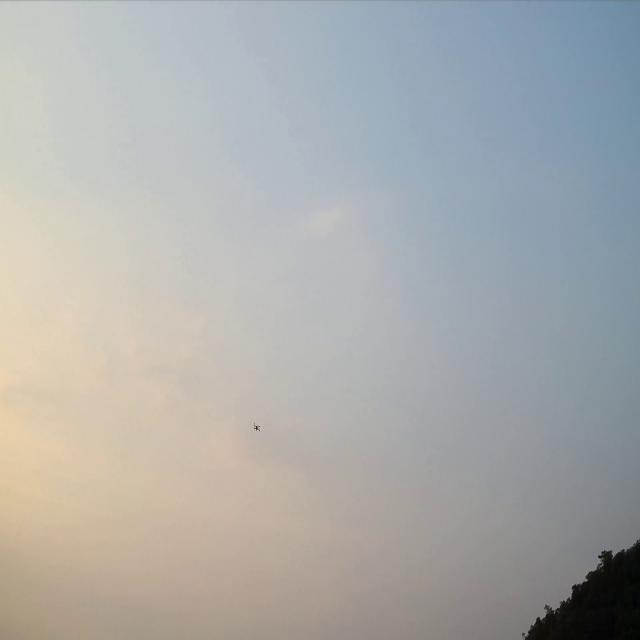drone: (253, 422, 261, 431)
